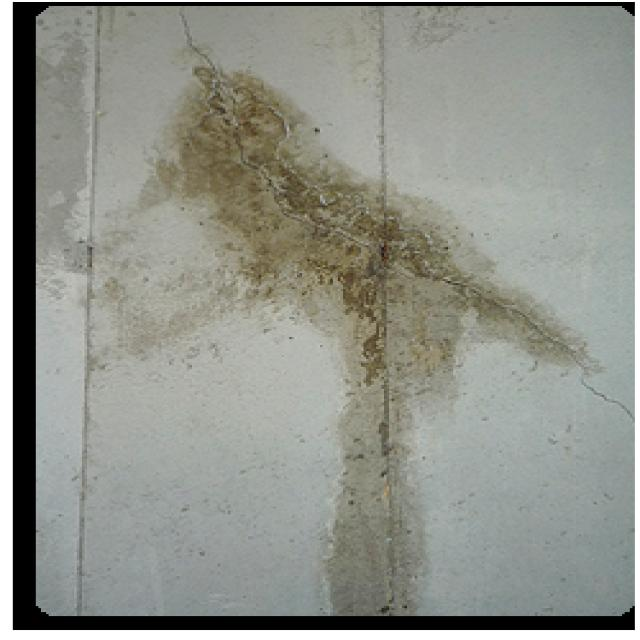Water_Leakage: (65, 17, 628, 605)
